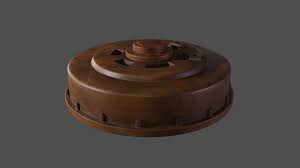car: (61, 25, 298, 158)
